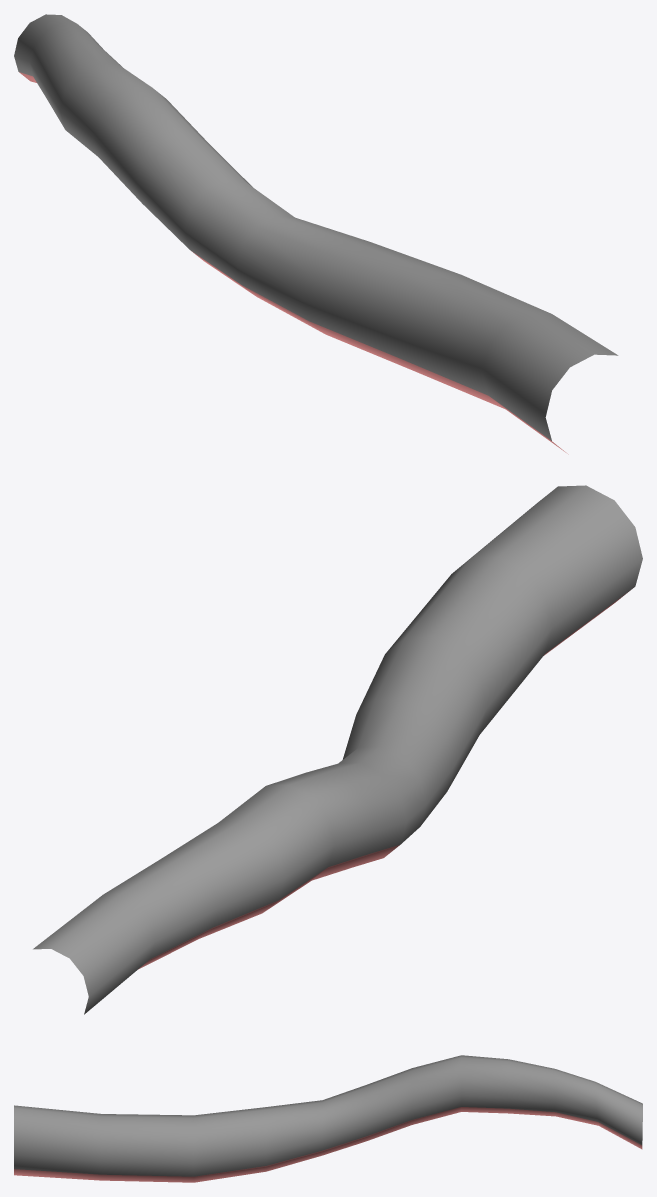
3 views of the same model, one above another, from view 1: azimuth 30°, elevation 25°; view 2: azimuth 150°, elevation 25°; view 3: azimuth 270°, elevation 25° (orthographic). The views are drawn at different scales.
Visible parts, largest first — view 1: root_02; view 2: root_02; view 3: root_02.
Boxes of the visible parts, x1,y1,x2,y2 form: root_02: (14,14,618,454); root_02: (33,485,642,1014); root_02: (14,1055,642,1182).
Bounding box in the file's own units: 11.34 × 8.41 × 50.92.
